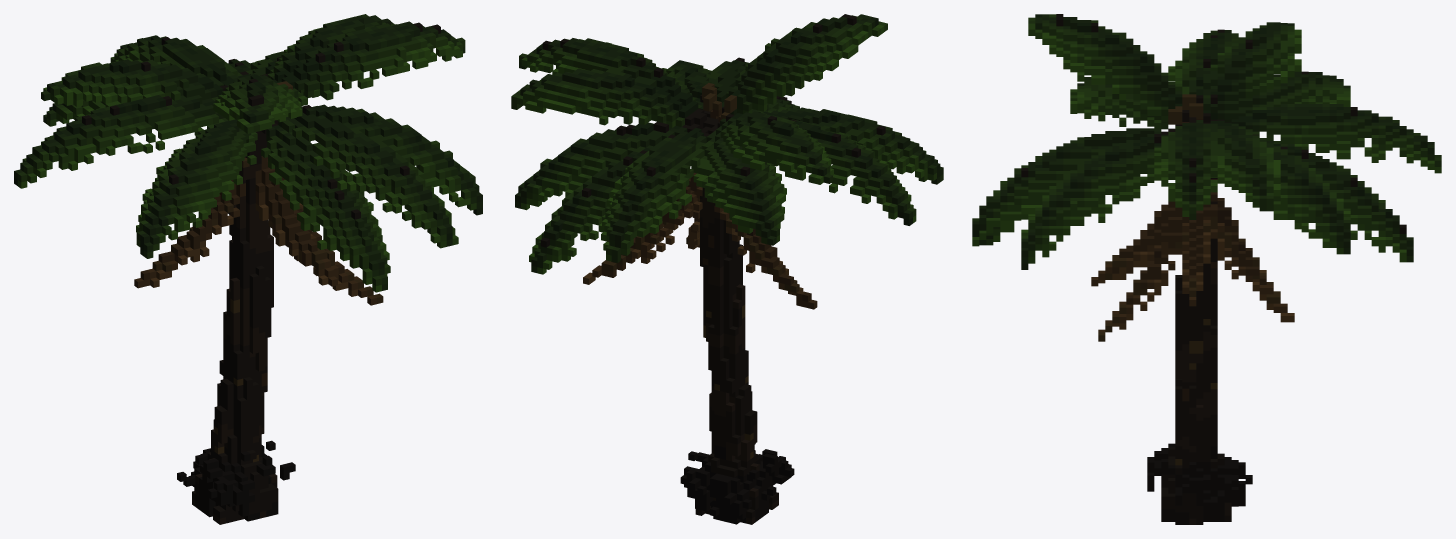
Rendered from samambaia_arborea_01_LOD2.fbx.
3 views of the same model, side by side, from view 1: azimuth 30°, elevation 25°; view 2: azimuth 150°, elevation 25°; view 3: azimuth 270°, elevation 25° (orthographic). The views are drawn at different scales.
Parts seen in each view (by area): view 1: samambaia_arborea_01_LOD2; view 2: samambaia_arborea_01_LOD2; view 3: samambaia_arborea_01_LOD2.
Boxes of the visible parts, left/top/right/bottom form: samambaia_arborea_01_LOD2: left=14, top=14, right=482, bottom=524; samambaia_arborea_01_LOD2: left=511, top=14, right=943, bottom=524; samambaia_arborea_01_LOD2: left=972, top=14, right=1441, bottom=524.
Bounding box in the file's own units: 438 × 463 × 419.
